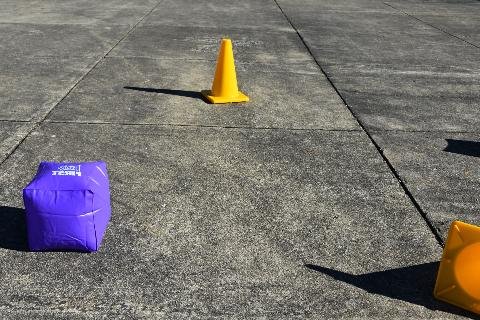cone: (432, 220, 480, 314), (201, 38, 249, 104)
cube: (23, 160, 111, 252)
